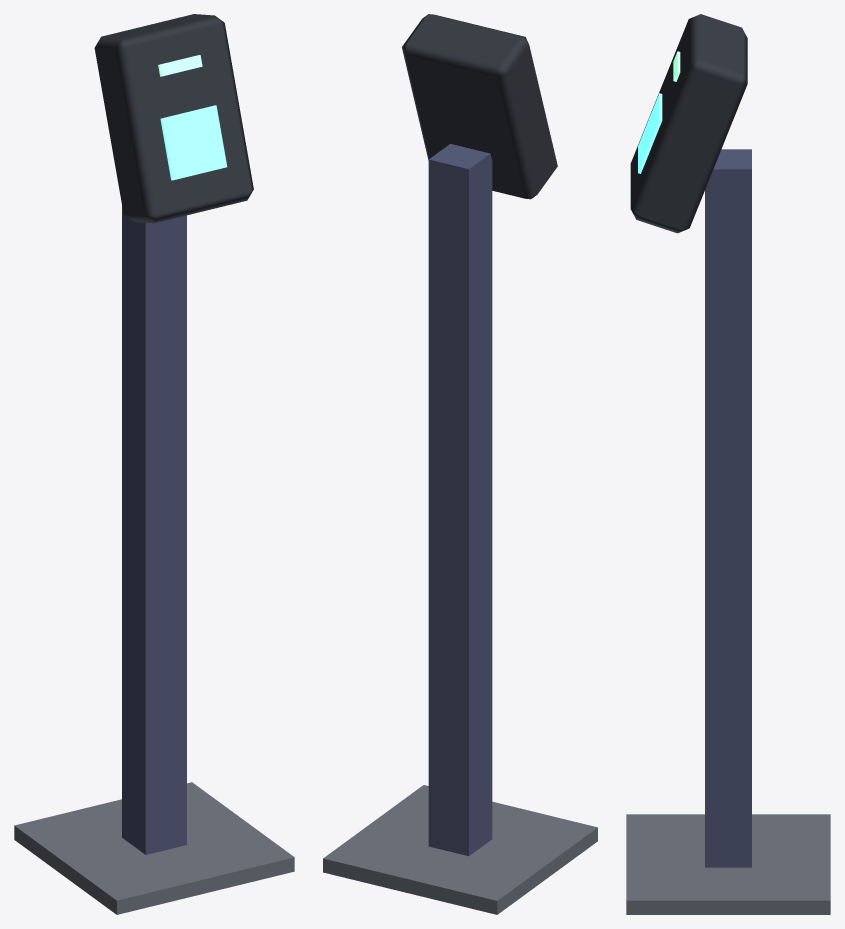
The model's file is station_special_ausstattung_2_2.glb.
3 views of the same model, side by side, from view 1: azimuth 30°, elevation 25°; view 2: azimuth 150°, elevation 25°; view 3: azimuth 270°, elevation 25° (orthographic). The views are drawn at different scales.
Visible parts, largest first — view 1: station_special_ausstattung_2_2; view 2: station_special_ausstattung_2_2; view 3: station_special_ausstattung_2_2.
Part boxes in pixels (x1,y1,x2,y2): station_special_ausstattung_2_2: [14, 14, 294, 914]; station_special_ausstattung_2_2: [323, 14, 597, 914]; station_special_ausstattung_2_2: [626, 14, 830, 914].
Bounding box in the file's own units: 0.26 × 1.17 × 0.26.
